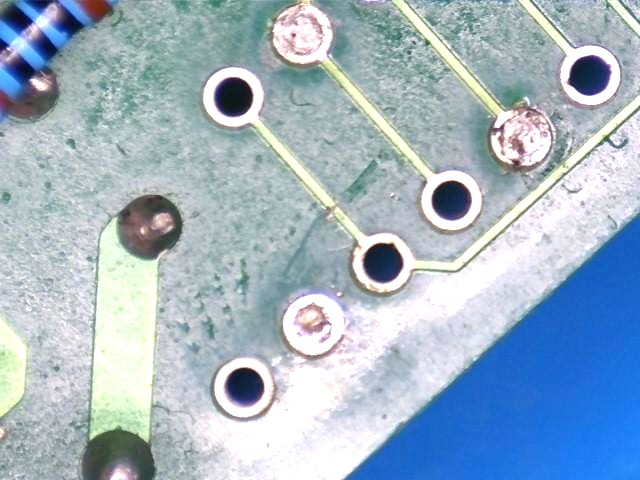pcb_defect: (284, 295, 343, 355), (490, 108, 551, 165), (272, 6, 332, 63)
